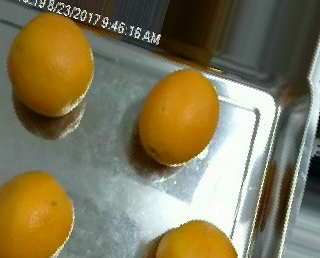Orange: (8, 11, 95, 117), (138, 66, 220, 165), (1, 170, 76, 257)
